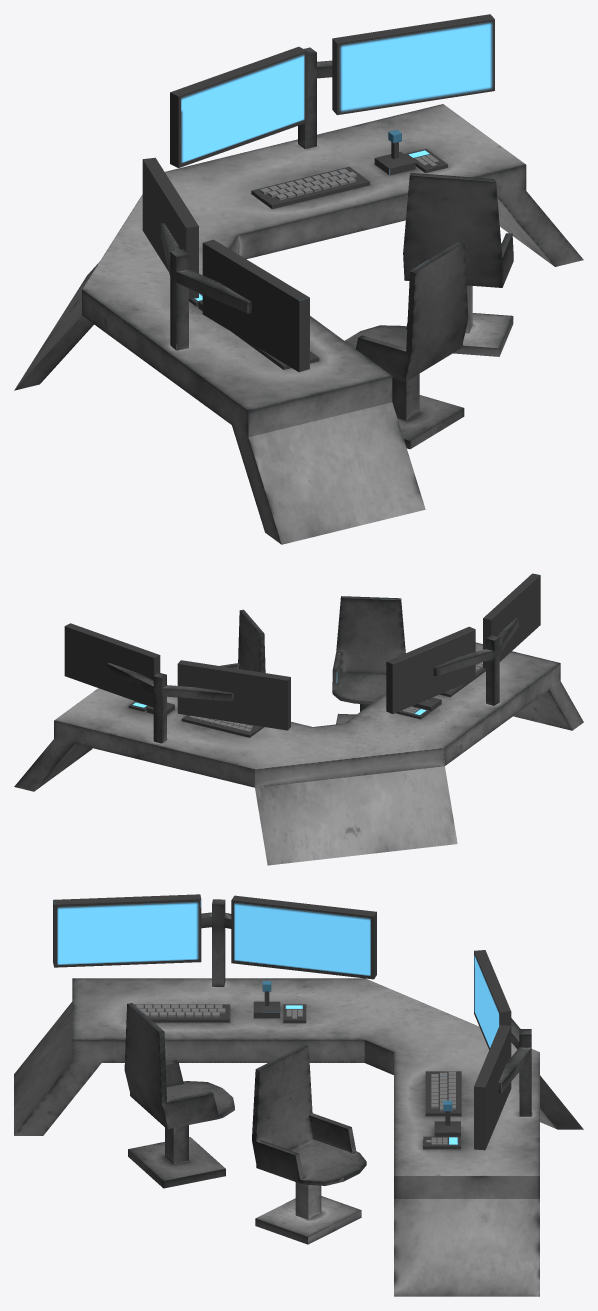
File: desk_final.fbx
3 views of the same model, one above another, from view 1: azimuth 30°, elevation 25°; view 2: azimuth 150°, elevation 25°; view 3: azimuth 270°, elevation 25° (orthographic). The views are drawn at different scales.
Visible parts, largest first — view 1: workstation; view 2: workstation; view 3: workstation.
Part boxes in pixels (x1,y1,x2,y2): workstation: (14,14,583,544); workstation: (14,573,583,865); workstation: (14,894,583,1296).
Size of the model in its own units: 390 by 145 by 390.
